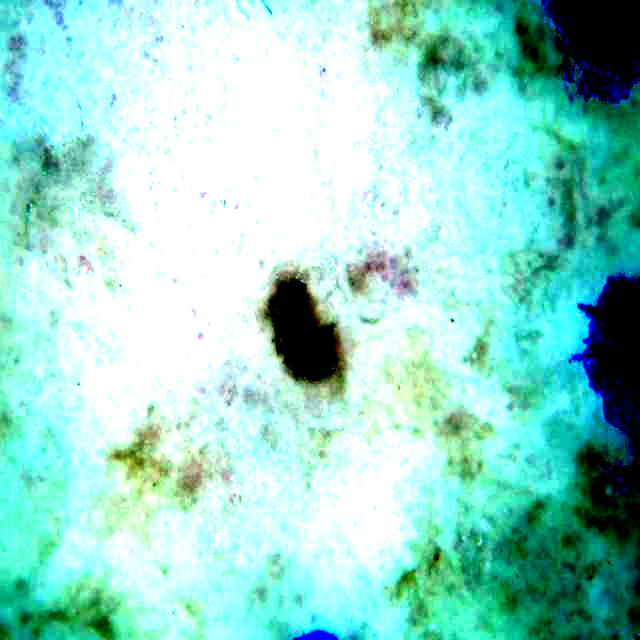AKIEC: (270, 277, 333, 378)
